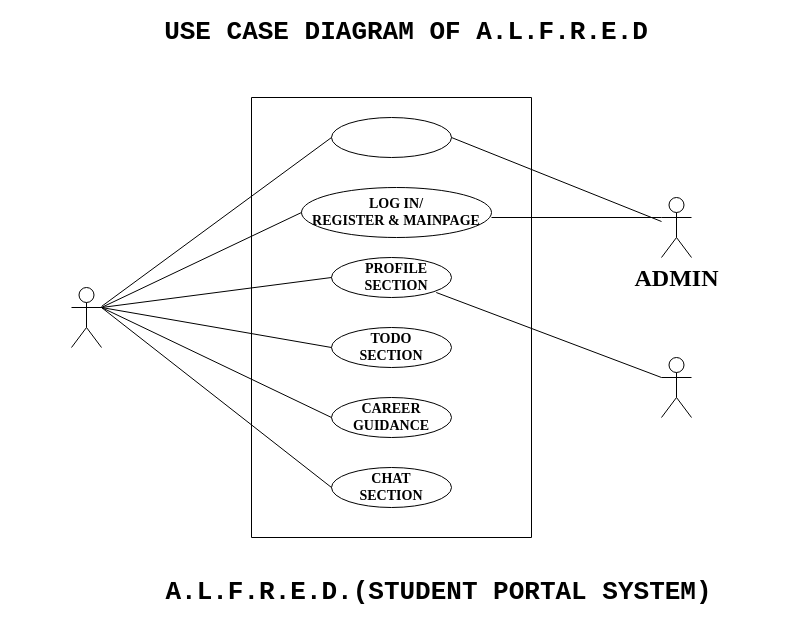
This 808x625 diagram has some shape labels left out. Here are the shapes that lost their labels. From the top down, the centre of each, then its label:
At pixel 391 137: "HOME PAGE".
At pixel 86 317: "CUSTOMER".
At pixel 676 387: "PAYMENT SERVICE".
